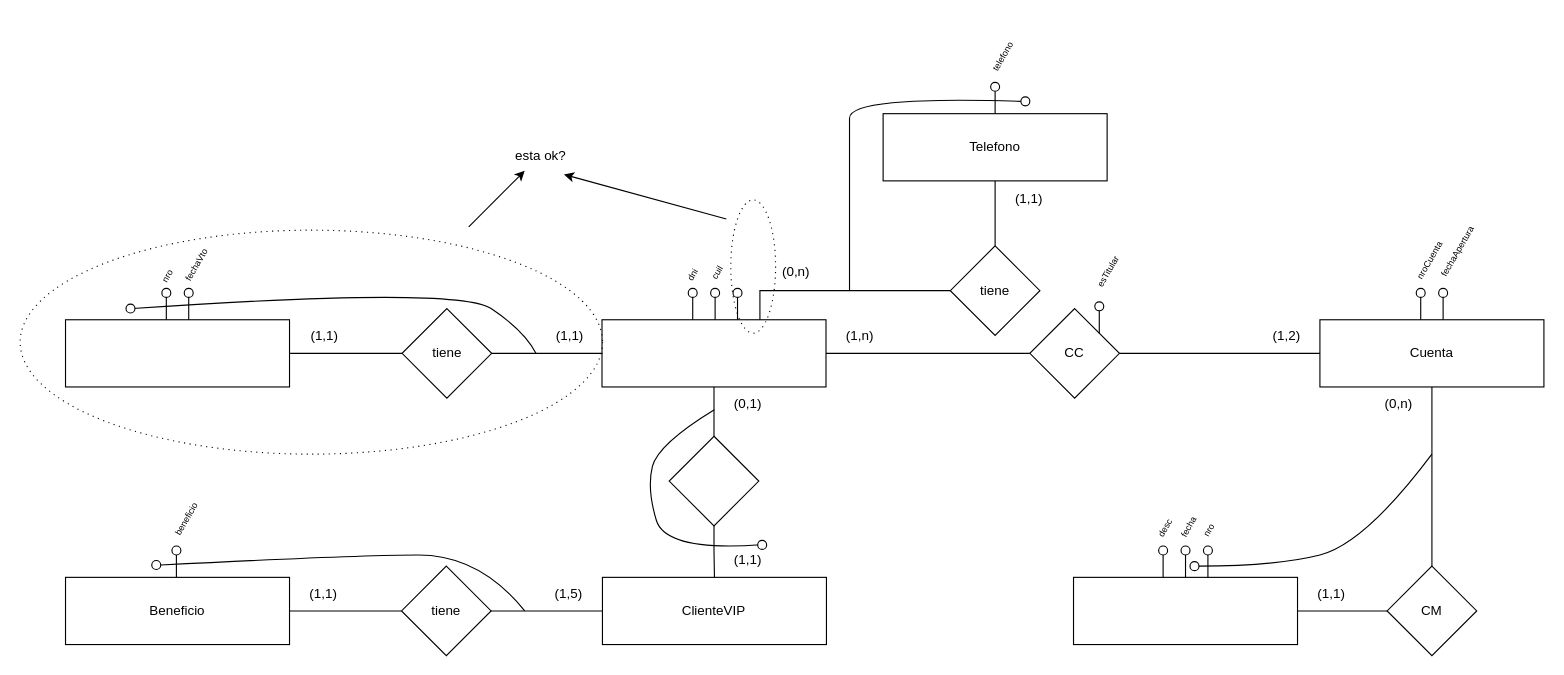
The diagram is 1564 pixels wide and 675 high, and some of its shapes have lost their labels. Each missing label, with the centre of its shape:
"Cliente" goes at point 713,353.
"es_un" goes at point 713,480.
"Movimiento" goes at point 1185,610.
"Tarjeta" goes at point 177,353.
"tarjeta_credito" goes at point 753,266.
